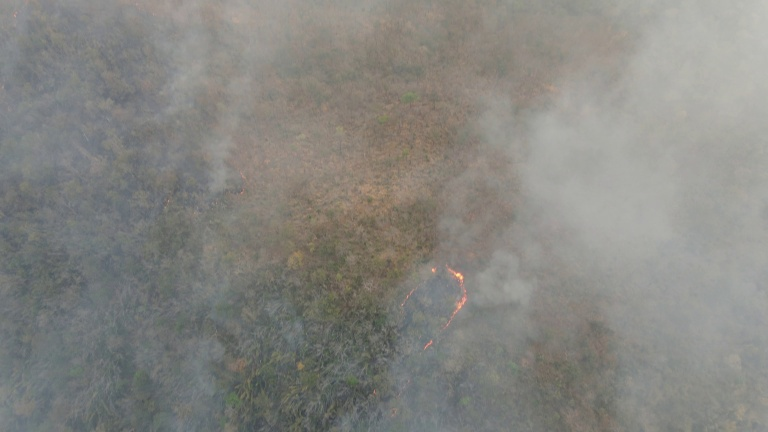fire: (396, 258, 468, 356)
smoke: (418, 4, 768, 432), (1, 1, 257, 428)
